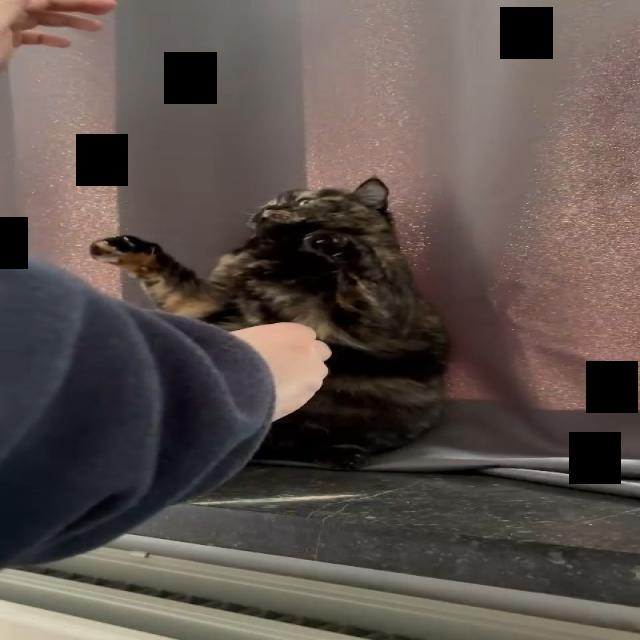authorized: (88, 176, 452, 471)
